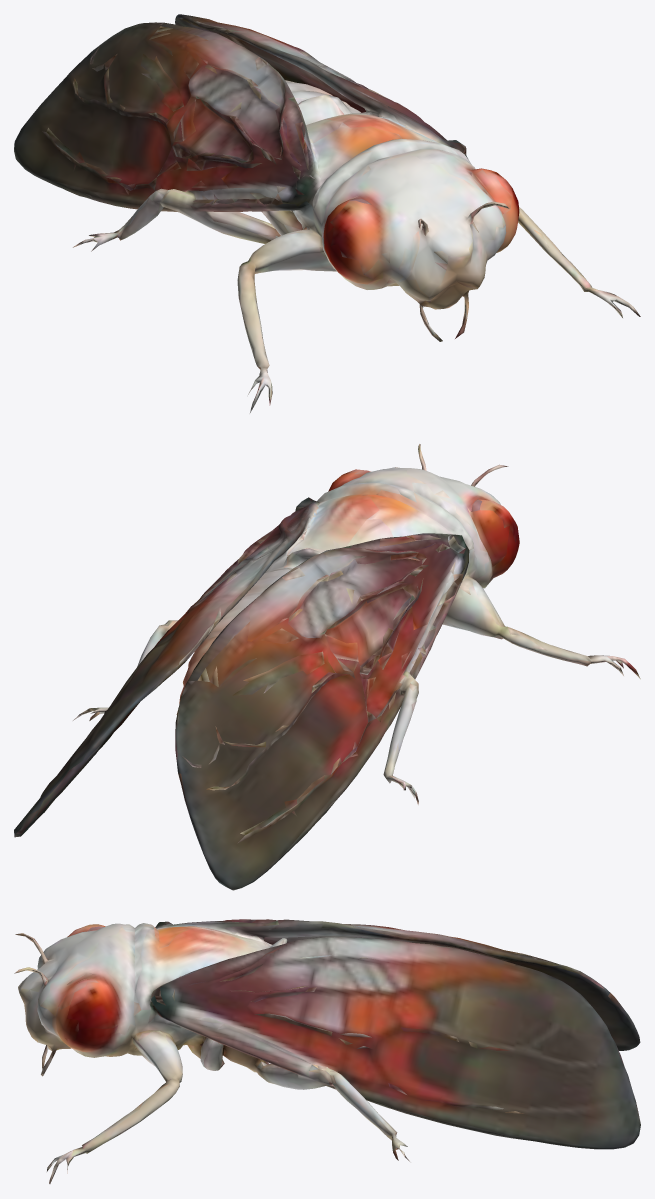
The model's file is Cicada_final.glb.
The picture shows the model from 3 angles, top to bottom: view 1: azimuth 30°, elevation 25°; view 2: azimuth 150°, elevation 25°; view 3: azimuth 270°, elevation 25°; orthographic projection. The views are drawn at different scales.
Visible parts, largest first — view 1: Mesh_0; view 2: Mesh_0; view 3: Mesh_0.
Boxes of the visible parts, left/top/right/bottom form: Mesh_0: left=14, top=14, right=640, bottom=413; Mesh_0: left=14, top=444, right=640, bottom=890; Mesh_0: left=14, top=919, right=640, bottom=1183.
Size of the model in its own units: 2.16 by 1 by 3.32.
1 material, 1 textured.
